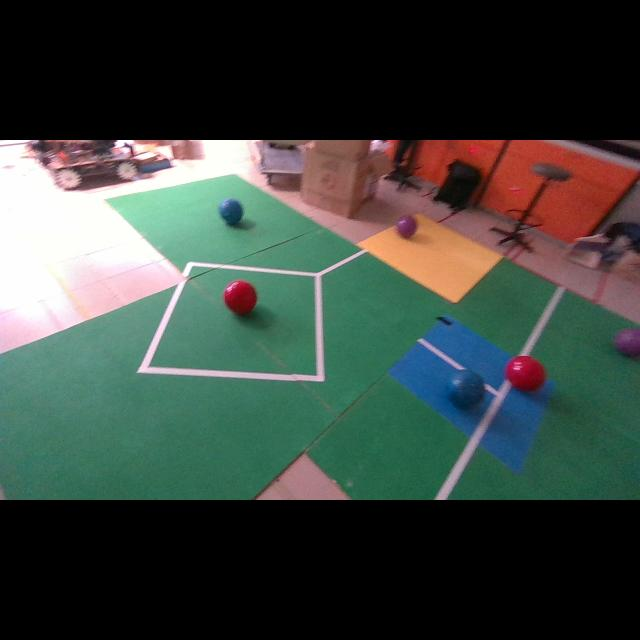B: (448, 370, 485, 410), (218, 199, 242, 224)
P: (614, 329, 640, 356), (396, 215, 418, 237)
R: (505, 356, 546, 391), (222, 280, 258, 315)
